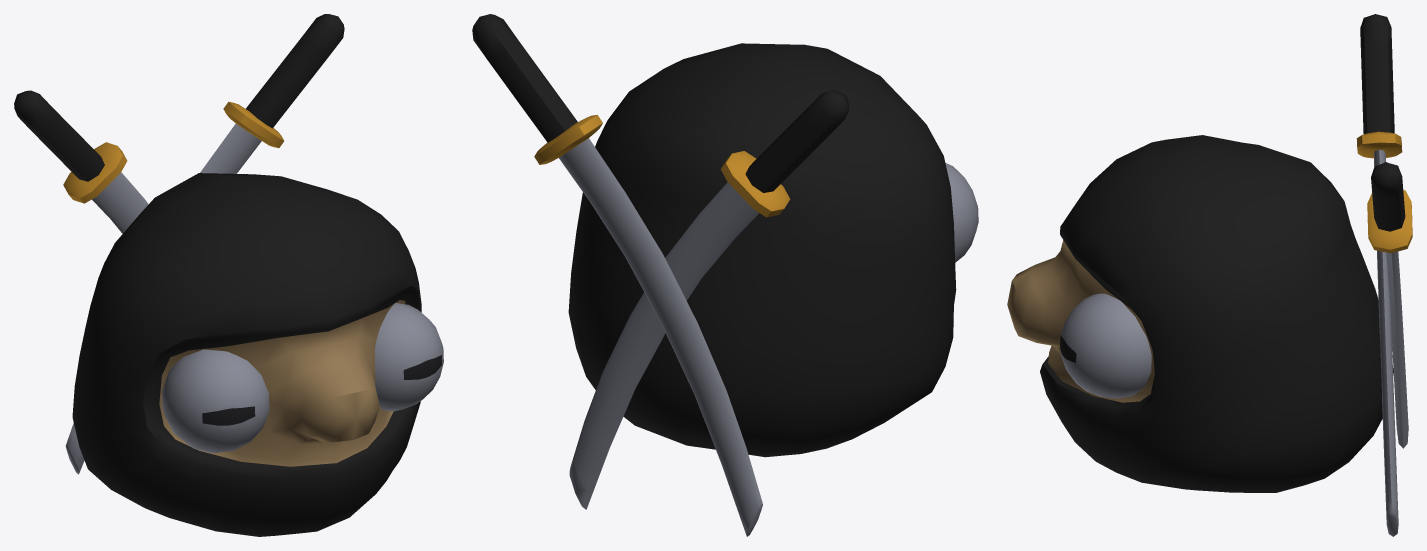
File: q_ninja.glb
The picture shows the model from 3 angles, left to right: view 1: azimuth 30°, elevation 25°; view 2: azimuth 150°, elevation 25°; view 3: azimuth 270°, elevation 25°; orthographic projection. The views are drawn at different scales.
Parts seen in each view (by area): view 1: Ninja_Blob.001_b; view 2: Ninja_Blob.001_b; view 3: Ninja_Blob.001_b.
Boxes of the visible parts, x1,y1,x2,y2 form: Ninja_Blob.001_b: (14, 14, 443, 536); Ninja_Blob.001_b: (472, 14, 978, 536); Ninja_Blob.001_b: (1007, 14, 1412, 536).
Bounding box in the file's own units: 0.8226 × 1 × 0.8751.
